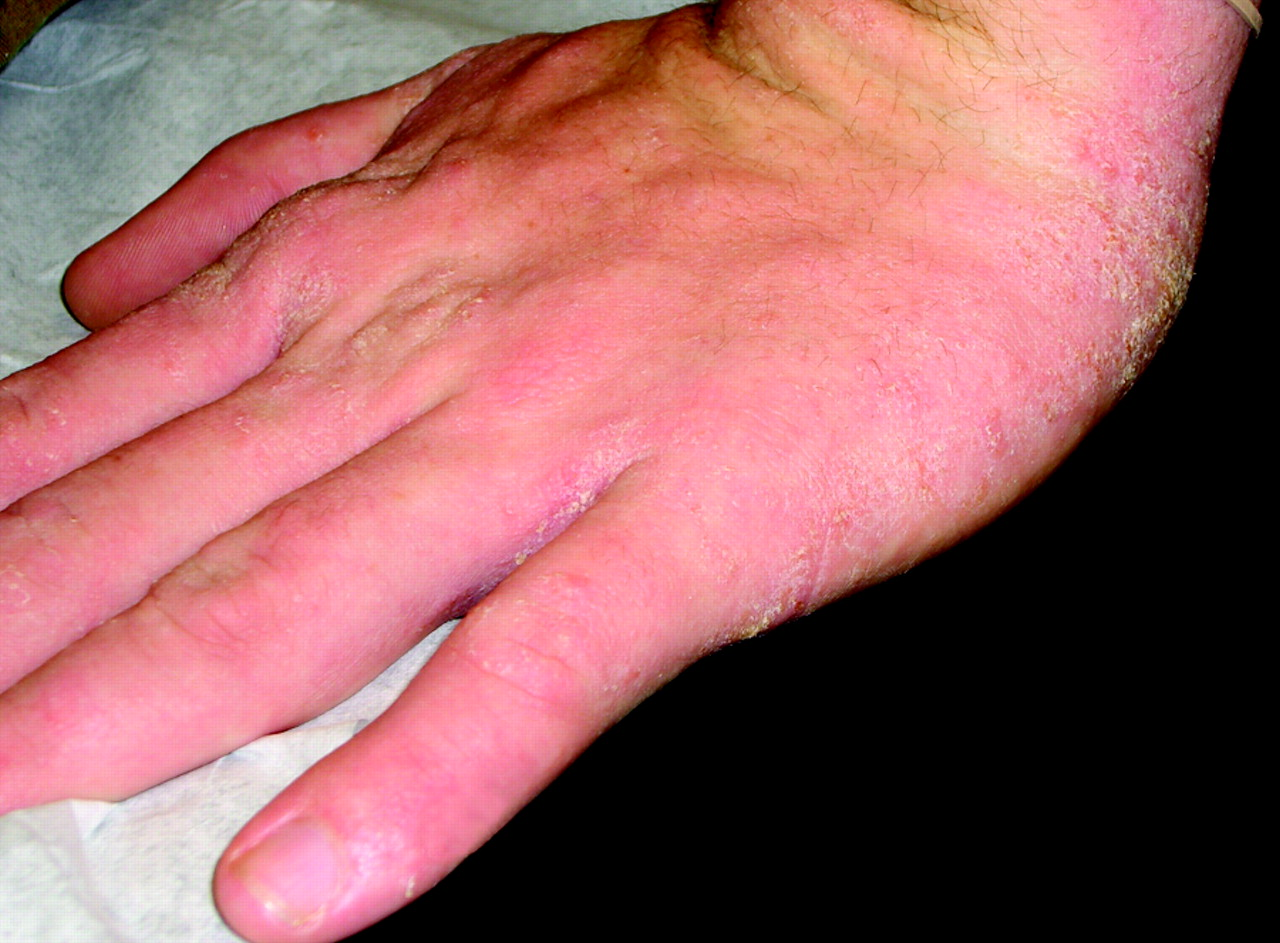Diseased: (77, 102, 1178, 671)
